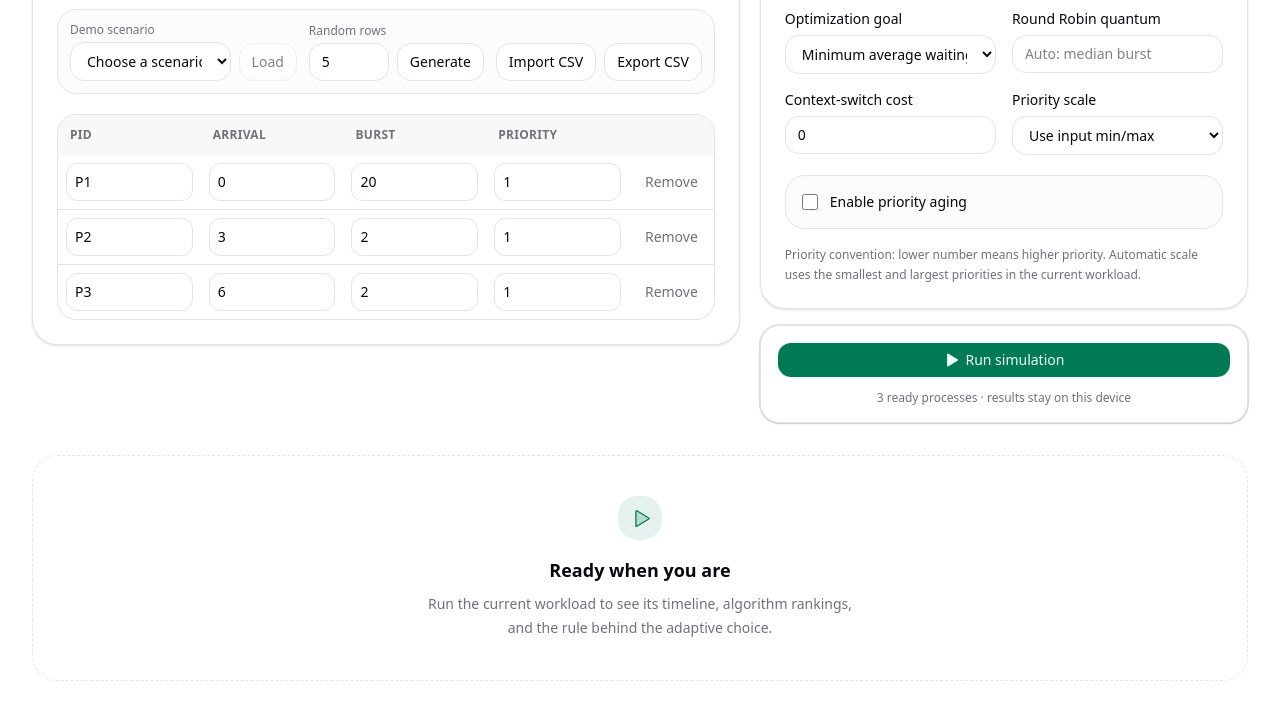
Test: simulator workflow › blocks invalid input and clears stale results after a change
The width and height of the screenshot is (1280, 720).
(page scrolled)
Click the button "Run simulation": click(1004, 360) [777,342,1231,378]
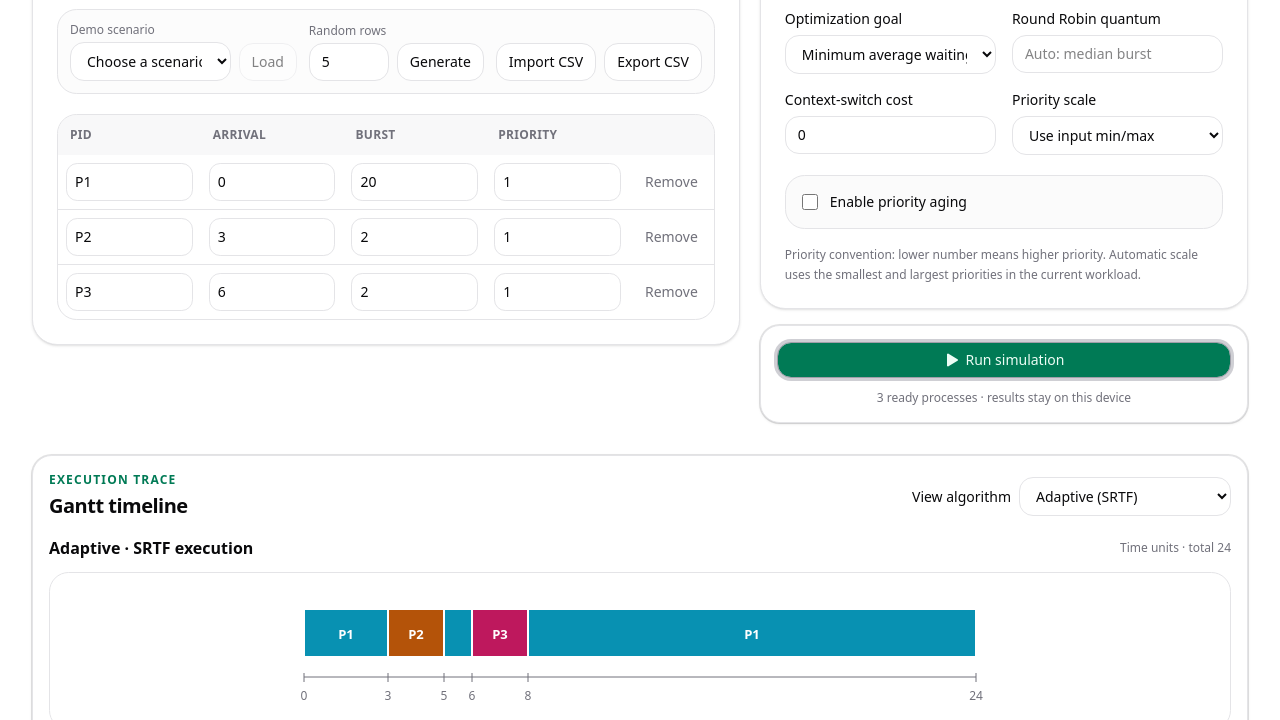
Replace the text in the number field named "Burst for row 1" with "0": (415, 182) [351,163,478,201]
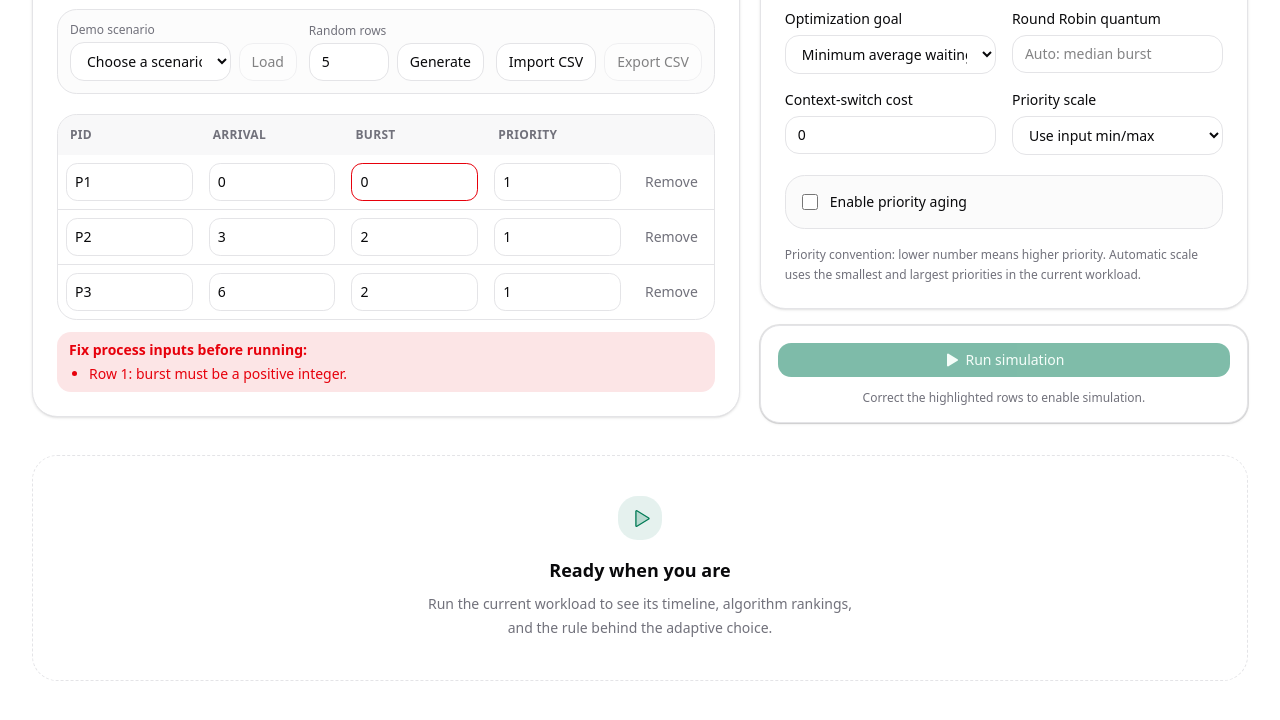
Result: the button "Run simulation" is disabled at [777,342,1231,378]
Result: the list item "Row 1: burst must be a positive integer." is shown at [89,364,347,383]
